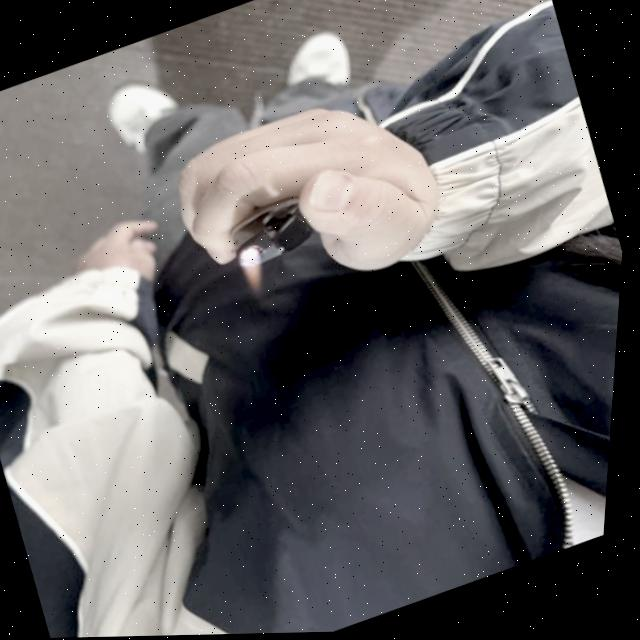Fire: (239, 259, 269, 292)
